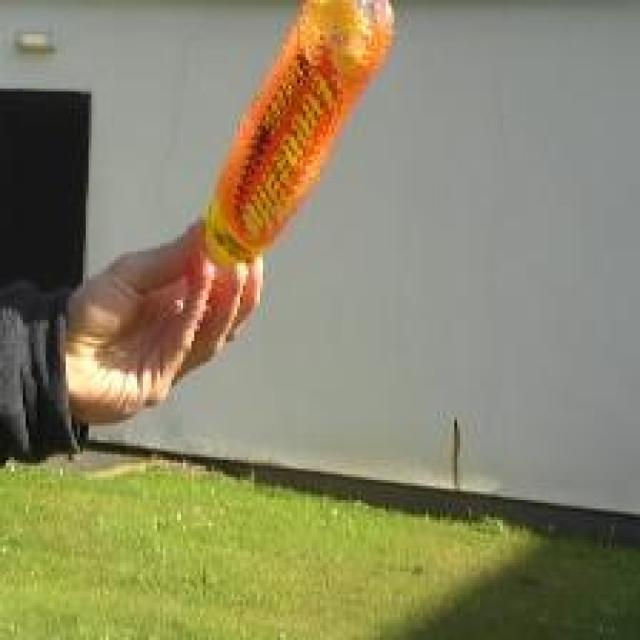other: (158, 1, 416, 278)
